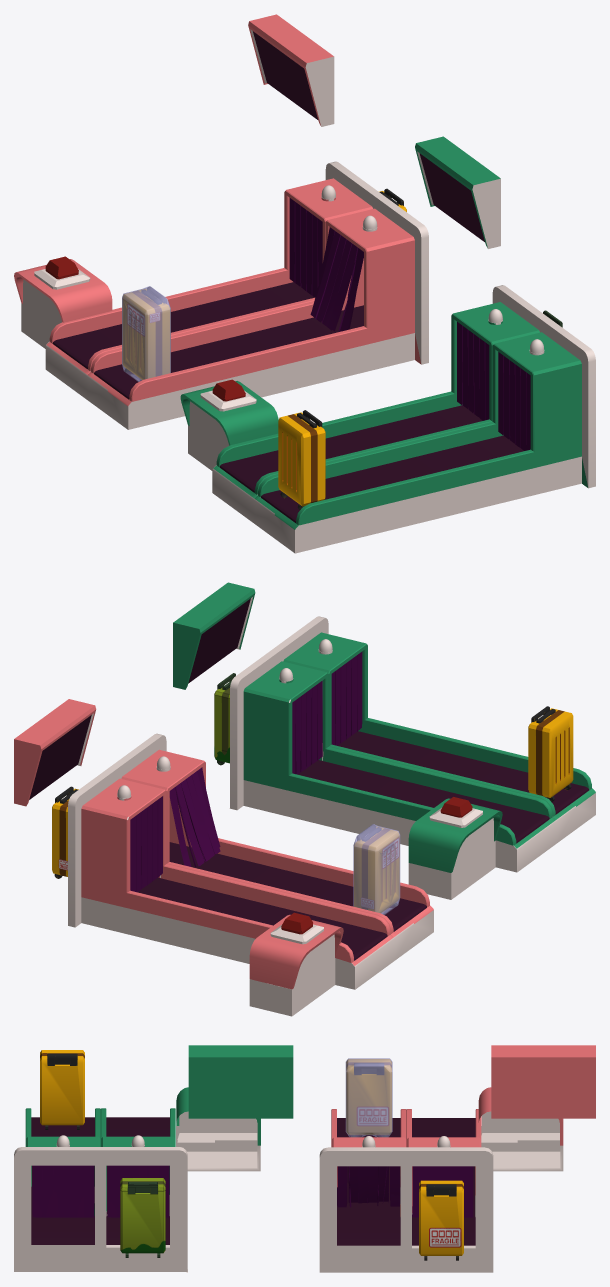
The model's file is WashingWrapperAnim.fbx.
The picture shows the model from 3 angles, top to bottom: view 1: azimuth 30°, elevation 25°; view 2: azimuth 150°, elevation 25°; view 3: azimuth 270°, elevation 25°; orthographic projection. The views are drawn at different scales.
Visible parts, largest first — view 1: Washing_MachineAnim, Wrapper_MachineAnim, TableTV, TableTV.001, Wrapper_WrappedLuggageAnim, Washing_CleanLuggageAnim, Wrapper_Gorden2, Wrapper_Gorden1, Washing_Gorden2, Washing_Gorden1; view 2: Washing_MachineAnim, Wrapper_MachineAnim, TableTV.001, TableTV, Wrapper_WrappedLuggageAnim, Washing_CleanLuggageAnim, Wrapper_Gorden2, Wrapper_Gorden1, Washing_Gorden2, Washing_Gorden1, Wrapper_FragileLuggageAnim, Washing_SlimyLuggageAnim; view 3: Wrapper_MachineAnim, Washing_MachineAnim, TableTV, TableTV.001, Wrapper_WrappedLuggageAnim, Washing_SlimyLuggageAnim, Wrapper_FragileLuggageAnim, Washing_CleanLuggageAnim, Washing_Gorden2, Wrapper_Gorden2, Washing_Gorden1, Wrapper_Gorden1.
Part boxes in pixels (left/top/right/bottom): Washing_MachineAnim: left=212, top=285, right=595, bottom=553; Wrapper_MachineAnim: left=45, top=161, right=428, bottom=429; TableTV: left=180, top=136, right=500, bottom=470; TableTV.001: left=14, top=14, right=334, bottom=348; Wrapper_WrappedLuggageAnim: left=122, top=286, right=170, bottom=381; Washing_CleanLuggageAnim: left=278, top=410, right=325, bottom=509; Wrapper_Gorden2: left=310, top=227, right=363, bottom=331; Wrapper_Gorden1: left=289, top=198, right=322, bottom=297; Washing_Gorden2: left=498, top=352, right=530, bottom=450; Washing_Gorden1: left=457, top=322, right=489, bottom=420; Washing_MachineAnim: left=230, top=616, right=595, bottom=872; Wrapper_MachineAnim: left=68, top=733, right=433, bottom=989; TableTV.001: left=14, top=699, right=343, bottom=1016; TableTV: left=173, top=582, right=502, bottom=899; Wrapper_WrappedLuggageAnim: left=353, top=824, right=400, bottom=914; Washing_CleanLuggageAnim: left=528, top=706, right=573, bottom=801; Wrapper_Gorden2: left=169, top=767, right=220, bottom=866; Wrapper_Gorden1: left=130, top=796, right=162, bottom=892; Washing_Gorden2: left=331, top=651, right=362, bottom=745; Washing_Gorden1: left=292, top=680, right=322, bottom=774; Wrapper_FragileLuggageAnim: left=52, top=786, right=78, bottom=878; Washing_SlimyLuggageAnim: left=214, top=673, right=235, bottom=765; Wrapper_MachineAnim: left=319, top=1109, right=493, bottom=1272; Washing_MachineAnim: left=14, top=1108, right=187, bottom=1271; TableTV: left=176, top=1045, right=293, bottom=1272; TableTV.001: left=478, top=1045, right=595, bottom=1171; Wrapper_WrappedLuggageAnim: left=345, top=1058, right=392, bottom=1137; Washing_SlimyLuggageAnim: left=120, top=1178, right=165, bottom=1257; Wrapper_FragileLuggageAnim: left=419, top=1180, right=463, bottom=1260; Washing_CleanLuggageAnim: left=40, top=1050, right=84, bottom=1129; Washing_Gorden2: left=32, top=1165, right=94, bottom=1217; Wrapper_Gorden2: left=337, top=1166, right=400, bottom=1207; Washing_Gorden1: left=107, top=1165, right=169, bottom=1217; Wrapper_Gorden1: left=412, top=1166, right=473, bottom=1217.
Bounding box in the file's own units: 16.61 × 11.42 × 27.97.
6 materials, 5 textured.
